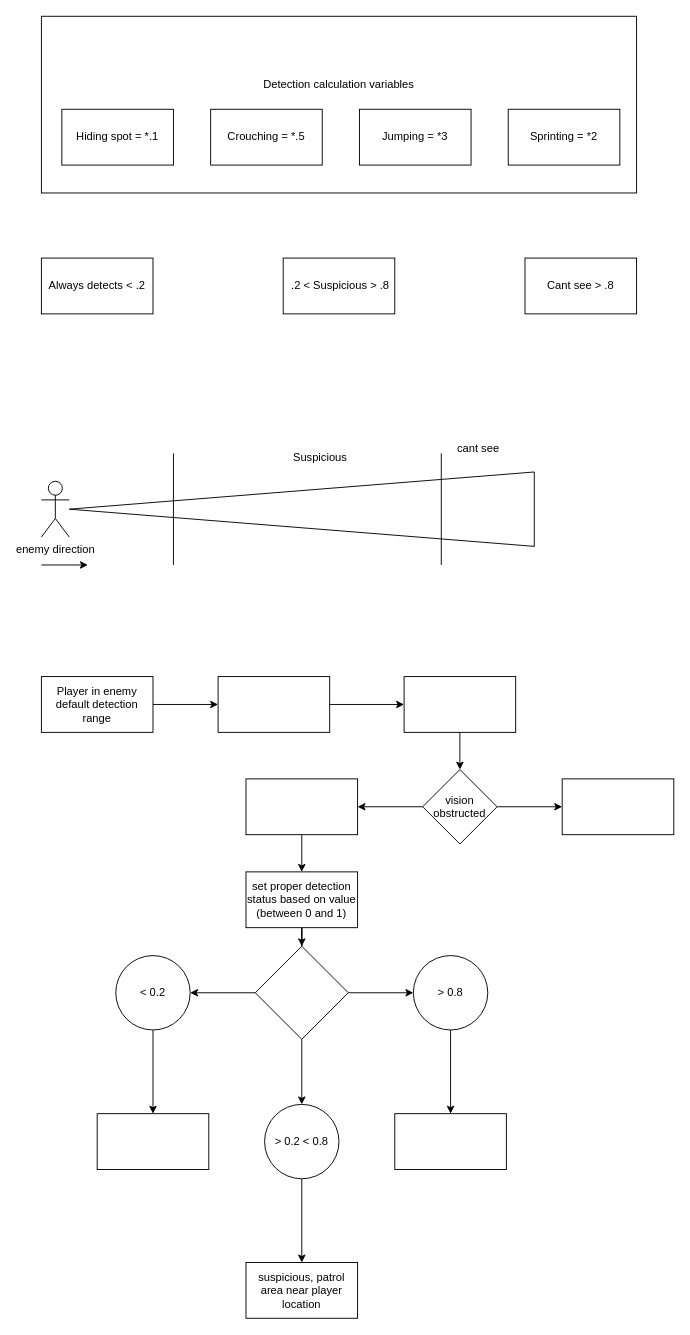
Some shapes in this 690 by 1335 pixel diagram are drawn without their labels. Here are the shapes that lost their labels. From the top down, the centre of each, then its label:
At (301,508): "A lways detects".
At (273,704): "Shot linetrace from enemy to player location".
At (459,704): "calculate distance between actors and check for sight obstacles".
At (301,806): "calculate detection value depending on variables".
At (617,806): "break".
At (301,992): "branch based on value".
At (152,1141): "player detected, chase player".
At (450,1141): "do not react, continue on your path".
